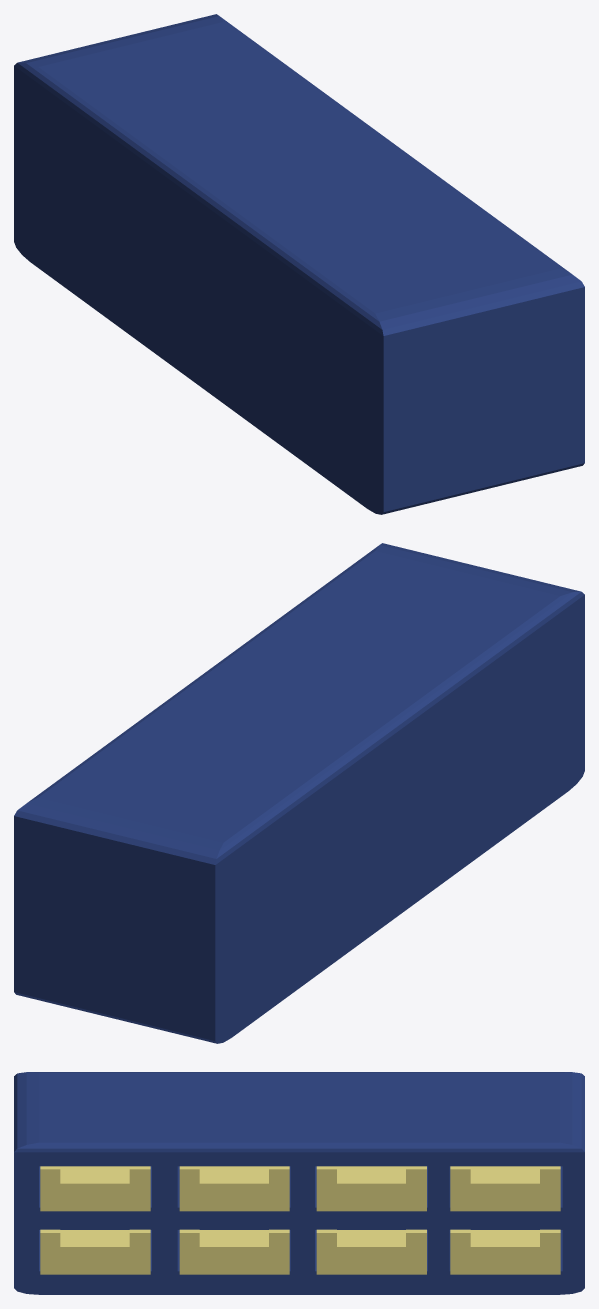
The model's file is DRESSER.fbx.
3 renders of one model, top to bottom at view 1: azimuth 30°, elevation 25°; view 2: azimuth 150°, elevation 25°; view 3: azimuth 270°, elevation 25°, orthographic. The views are drawn at different scales.
Visible parts, largest first — view 1: Cube; view 2: Cube; view 3: Cube, Cube.001, Cube.005, Cube.003, Cube.004, Cube.006, Cube.009, Cube.008, Cube.007.
Part boxes in pixels (<box>): Cube: <box>14,14,584,514</box>; Cube: <box>14,543,584,1043</box>; Cube: <box>14,1072,584,1294</box>; Cube.001: <box>40,1166,150,1211</box>; Cube.005: <box>450,1166,560,1211</box>; Cube.003: <box>179,1166,289,1211</box>; Cube.004: <box>316,1166,426,1211</box>; Cube.006: <box>450,1229,560,1274</box>; Cube.009: <box>40,1229,150,1274</box>; Cube.008: <box>179,1229,289,1274</box>; Cube.007: <box>316,1229,426,1274</box>.
Bounding box in the file's own units: 228 × 200 × 694.
